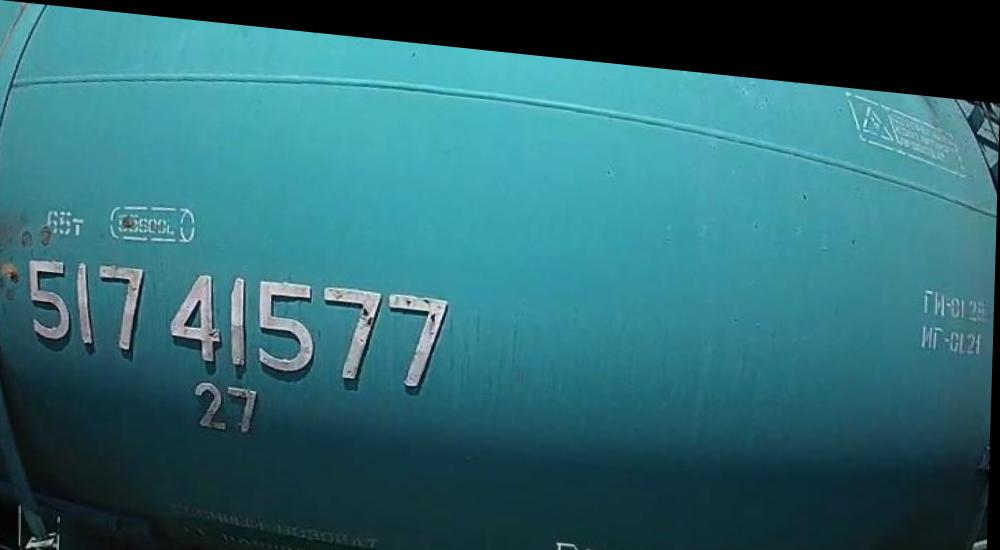Wagon-number: (21, 244, 458, 392)
